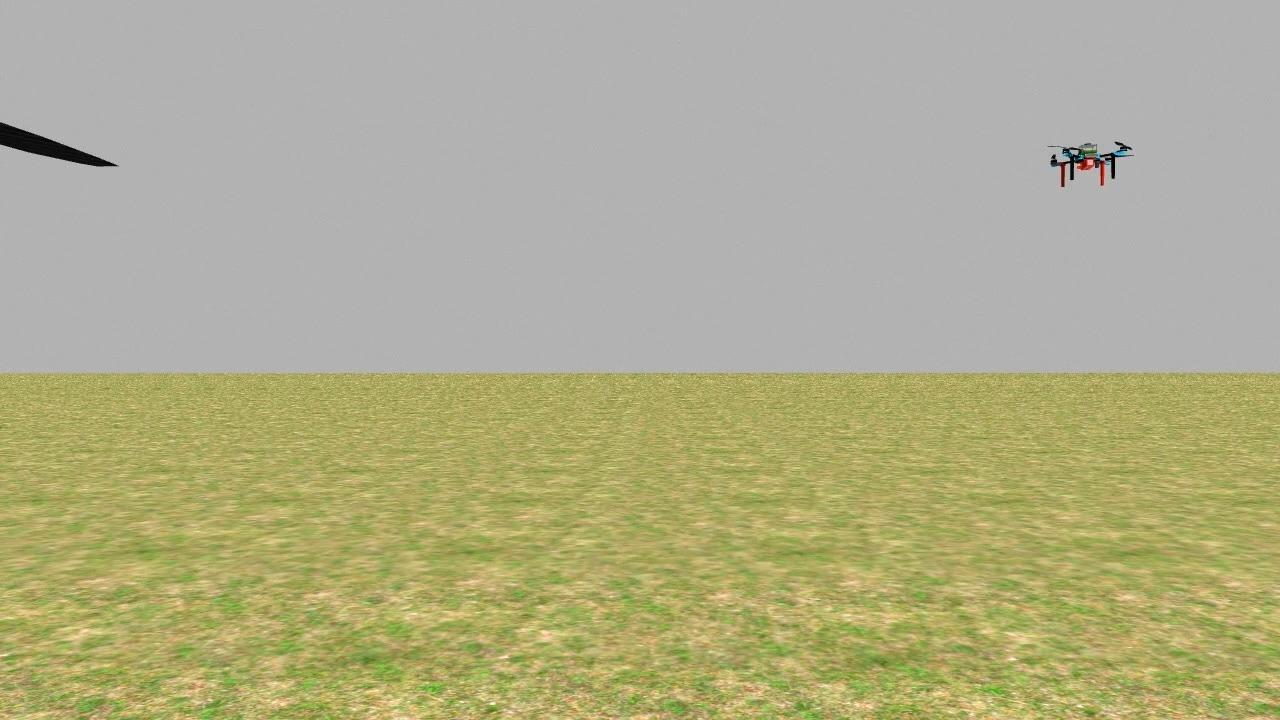UAV: (1038, 122, 1138, 200)
